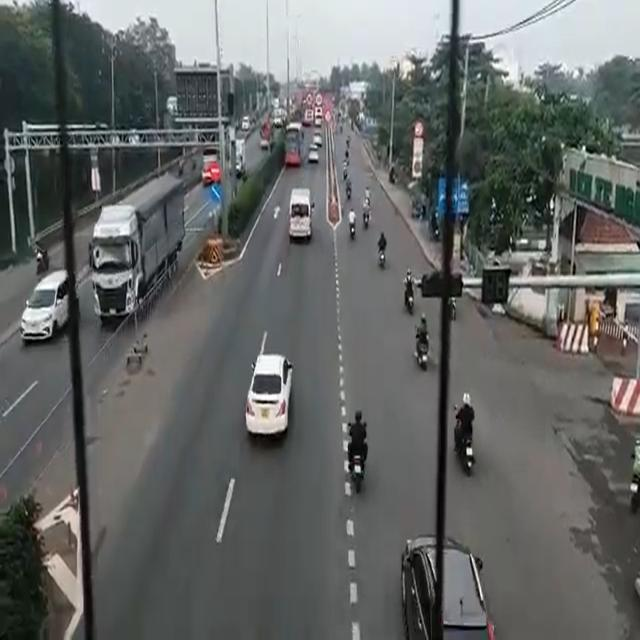bus: (284, 121, 302, 172)
car: (397, 536, 493, 637), (245, 348, 288, 436), (22, 271, 71, 339), (289, 184, 312, 248)
motor: (344, 404, 364, 497), (459, 400, 475, 481), (411, 309, 427, 366), (375, 230, 390, 268), (406, 269, 415, 315), (346, 204, 356, 244)
truck: (94, 167, 178, 332)
